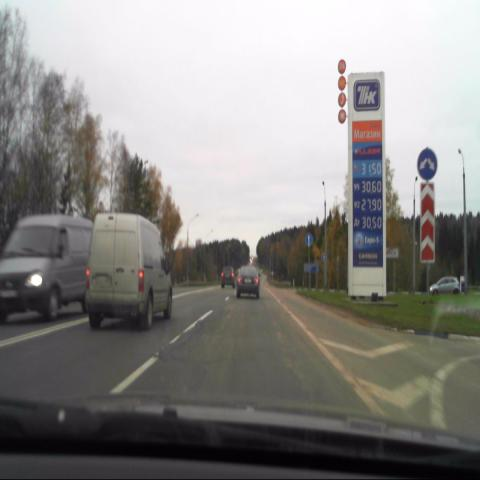4_2_3: (417, 148, 439, 184)
